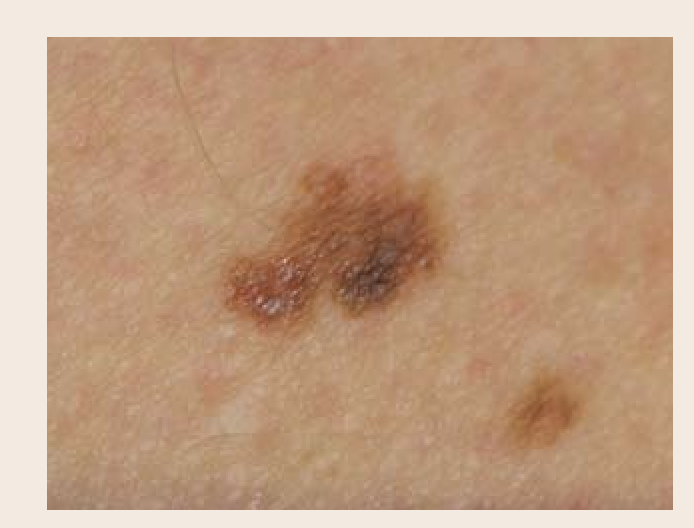melanoma: (159, 100, 600, 443)
